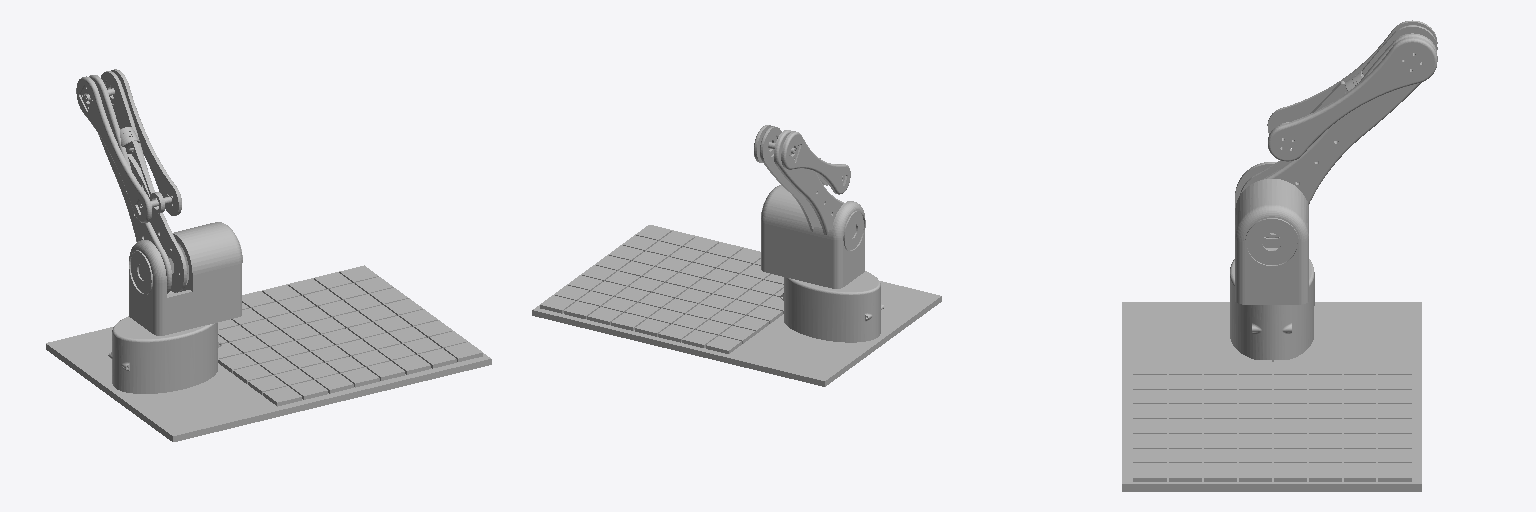
The robot description file, URDF, robot "chess_rob":
<?xml version="1.0" encoding="utf-8"?>

<robot
  name="chess_rob">

  <gazebo>
    <plugin name="gazebo_ros_control" filename="libgazebo_ros_control.so">
      <robotNamespace>/chess_rob</robotNamespace>
      <robotSimType>gazebo_ros_control/DefaultRobotHWSim</robotSimType>
      <legacyModeNS>true</legacyModeNS>
    </plugin>
  </gazebo>


 <link name="world"/>
 <joint name="joint_w" type="fixed">
    <parent link="world"/>
    <child link="base_link"/>
  </joint>
  
  <link
    name="base_link">
    <inertial>
      <origin
        xyz="-0.015217243894891 1.33674799181194E-08 0.0349095660299761"
        rpy="0 0 0" />
      <mass
        value="0.242925533930054" />
      <inertia
        ixx="0.000184514361836117"
        ixy="-6.56879521762788E-08"
        ixz="-8.40471453675092E-06"
        iyy="0.000308044865573332"
        iyz="7.17644794224948E-12"
        izz="0.000348230702382964" />
    </inertial>
    <visual>
      <origin
        xyz="0 0 0"
        rpy="0 0 0" />
      <geometry>
        <mesh
          filename="package://chess_rob/meshes/visual/base_link.STL" />
      </geometry>
      <material
        name="">
        <color
          rgba="0.752941176470588 0.752941176470588 0.752941176470588 1" />
      </material>
    </visual>
    <collision>
      <origin
        xyz="0 0 0.005"
        rpy="0 0 0" />
      <geometry>
        <mesh
          filename="package://chess_rob/meshes/collision/base_link.STL" />
      </geometry>
    </collision>
  </link>
  <link
    name="link_1">
    <inertial>
      <origin
        xyz="-0.000606604801845462 0.000544256660138659 0.0309541889481369"
        rpy="0 0 0" />
      <mass
        value="0.165452367760892" />
      <inertia
        ixx="0.000319019027558372"
        ixy="-2.56730533017839E-06"
        ixz="8.60884430980357E-07"
        iyy="0.000174178835891692"
        iyz="-7.48100720278735E-06"
        izz="0.000334430345588851" />
    </inertial>
    <visual>
      <origin
        xyz="0 0 0"
        rpy="0 0 0" />
      <geometry>
        <mesh
          filename="package://chess_rob/meshes/visual/link_1.STL" />
      </geometry>
      <material
        name="">
        <color
          rgba="0.752941176470588 0.752941176470588 0.752941176470588 1" />
      </material>
    </visual>
    <collision>
      <origin
        xyz="0 0 0"
        rpy="0 0 0" />
      <geometry>
        <mesh
          filename="package://chess_rob/meshes/collision/link_1.stl" />
      </geometry>
    </collision>
  </link>
  <joint
    name="joint_1"
    type="continuous">
    <origin
      xyz="0 0 0.079"
      rpy="0 0 -1.57" />
    <parent
      link="base_link" />
    <child
      link="link_1" />
    <axis
      xyz="0 0 -1" />
  </joint>
  <link
    name="link_2">
    <inertial>
      <origin
        xyz="-1.69017261852922E-08 -0.000945344060170763 0.103491004754061"
        rpy="0 0 0" />
      <mass
        value="0.110239166528901" />
      <inertia
        ixx="0.000645214897942635"
        ixy="-2.1691055188587E-12"
        ixz="-2.08689181194865E-10"
        iyy="0.000665314861067016"
        iyz="-1.28048946872329E-06"
        izz="2.08661229293727E-05" />
    </inertial>
    <visual>
      <origin
        xyz="0 0 0"
        rpy="0 0 0" />
      <geometry>
        <mesh
          filename="package://chess_rob/meshes/visual/link_2.STL" />
      </geometry>
      <material
        name="">
        <color
          rgba="0.752941176470588 0.752941176470588 0.752941176470588 1" />
      </material>
    </visual>
    <collision>
      <origin
        xyz="0 0 0"
        rpy="0 0 0" />
      <geometry>
        <mesh
          filename="package://chess_rob/meshes/collision/link_2.stl" />
      </geometry>
    </collision>
  </link>
  <joint
    name="joint_2"
    type="continuous">
    <origin
      xyz="0 -0.026124 0.068999"
      rpy="0 -0.697 0" />
    <parent
      link="link_1" />
    <child
      link="link_2" />
    <axis
      xyz="0 1 0" />

  </joint>
  <link
    name="link_3">
    <inertial>
      <origin
        xyz="-3.69654537563102E-07 -0.00028797436439582 0.0692637508407093"
        rpy="0 0 0" />
      <mass
        value="0.0586792348761411" />
      <inertia
        ixx="0.000199414999682554"
        ixy="3.30496081031023E-10"
        ixz="1.64091696957926E-12"
        iyy="0.00020384558759879"
        iyz="4.75321439278164E-08"
        izz="6.74770658461029E-06" />
    </inertial>
    <visual>
      <origin
        xyz="0 0 0"
        rpy="0 0 0" />
      <geometry>
        <mesh
          filename="package://chess_rob/meshes/visual/link_3.STL" />
      </geometry>
      <material
        name="">
        <color
          rgba="0.752941176470588 0.752941176470588 0.752941176470588 1" />
      </material>
    </visual>
    <collision>
      <origin
        xyz="0 0 0"
        rpy="0 0 0" />
      <geometry>
        <mesh
          filename="package://chess_rob/meshes/collision/link_3.stl" />
      </geometry>
    </collision>
  </link>
  <joint
    name="joint_3"
    type="continuous">
    <origin
      xyz="0 0 0.2195"
      rpy="0 2.895 0" />
    <parent
      link="link_2" />
    <child
      link="link_3" />
    <axis
      xyz="0 -1 0" />

  </joint>
  <link
    name="link_4">
    <inertial>
      <origin
        xyz="0.000132107659803454 -1.88106667816882E-05 -0.0858466150623816"
        rpy="0 0 0" />
      <mass
        value="0.0782399819940314" />
      <inertia
        ixx="9.53988185360244E-06"
        ixy="7.41120076252732E-09"
        ixz="-5.20274626001282E-08"
        iyy="9.8647213536698E-06"
        iyz="9.46197536367817E-09"
        izz="6.12772552030606E-06" />
    </inertial>
    <visual>
      <origin
        xyz="0 0 0"
        rpy="0 0 0" />
      <geometry>
        <mesh
          filename="package://chess_rob/meshes/visual/link_4.STL" />
      </geometry>
      <material
        name="">
        <color
          rgba="0.752941176470588 0.752941176470588 0.752941176470588 1" />
      </material>
    </visual>
    <collision>
      <origin
        xyz="0 0 0"
        rpy="0 0 0" />
      <geometry>
        <mesh
          filename="package://chess_rob/meshes/collision/link_4.stl" />
      </geometry>
    </collision>
  </link>
  <joint
    name="joint_4"
    type="continuous">
    <origin
      xyz="0 0 0.155"
      rpy="0 0 0" />
    <parent
      link="link_3" />
    <child
      link="link_4" />
    <axis
      xyz="0 -1 0" />

  </joint>

  <transmission name="T1">
      <type>transmission_interface/PositionJointInterface</type>
      <joint name="joint_1">
        <hardwareInterface>hardware_interface/PositionJointInterface</hardwareInterface>
      </joint>
      <actuator name="M1">
        <hardwareInterface>hardware_interface/PositionJointInterface</hardwareInterface>
        <mechanicalReduction>1</mechanicalReduction>
      </actuator>
    </transmission>

  <transmission name="T2">
      <type>transmission_interface/PositionJointInterface</type>
      <joint name="joint_2">
        <hardwareInterface>hardware_interface/PositionJointInterface</hardwareInterface>
      </joint>
      <actuator name="M2">
        <hardwareInterface>hardware_interface/PositionJointInterface</hardwareInterface>
        <mechanicalReduction>1</mechanicalReduction>
      </actuator>
    </transmission>

  <transmission name="T3">
      <type>transmission_interface/PositionJointInterface</type>
      <joint name="joint_3">
        <hardwareInterface>hardware_interface/PositionJointInterface</hardwareInterface>
      </joint>
      <actuator name="M3">
        <hardwareInterface>hardware_interface/PositionJointInterface</hardwareInterface>
        <mechanicalReduction>1</mechanicalReduction>
      </actuator>
    </transmission>




</robot>

--- Facts derived from the render (not from the file) ---
The picture shows the robot from 3 angles, left to right: view 1: azimuth 30°, elevation 25°; view 2: azimuth 150°, elevation 25°; view 3: azimuth 270°, elevation 25°; orthographic projection.
Robot: chess_rob — 6 links, 5 joints (4 continuous, 1 fixed); root link world; default pose: every joint at zero.
Links seen in each view (by area): view 1: base_link, link_1, link_3, link_2, link_4; view 2: base_link, link_1, link_2, link_3; view 3: base_link, link_1, link_3, link_2.
Link boxes in pixels (x1,y1,x2,y2): base_link: (46,265,491,441); link_1: (129,222,242,335); link_3: (76,69,181,222); link_2: (87,71,187,293); link_4: (120,127,164,213); base_link: (532,225,941,386); link_1: (761,185,865,288); link_2: (760,126,851,234); link_3: (754,125,850,194); base_link: (1122,259,1421,491); link_1: (1235,162,1308,304); link_3: (1267,20,1437,161); link_2: (1240,25,1437,237).
Size in the robot's own frame: 0.5822 by 0.3159 by 0.3433 metres.
5 mesh visuals loaded from 5 distinct referenced files (5 binary STL).